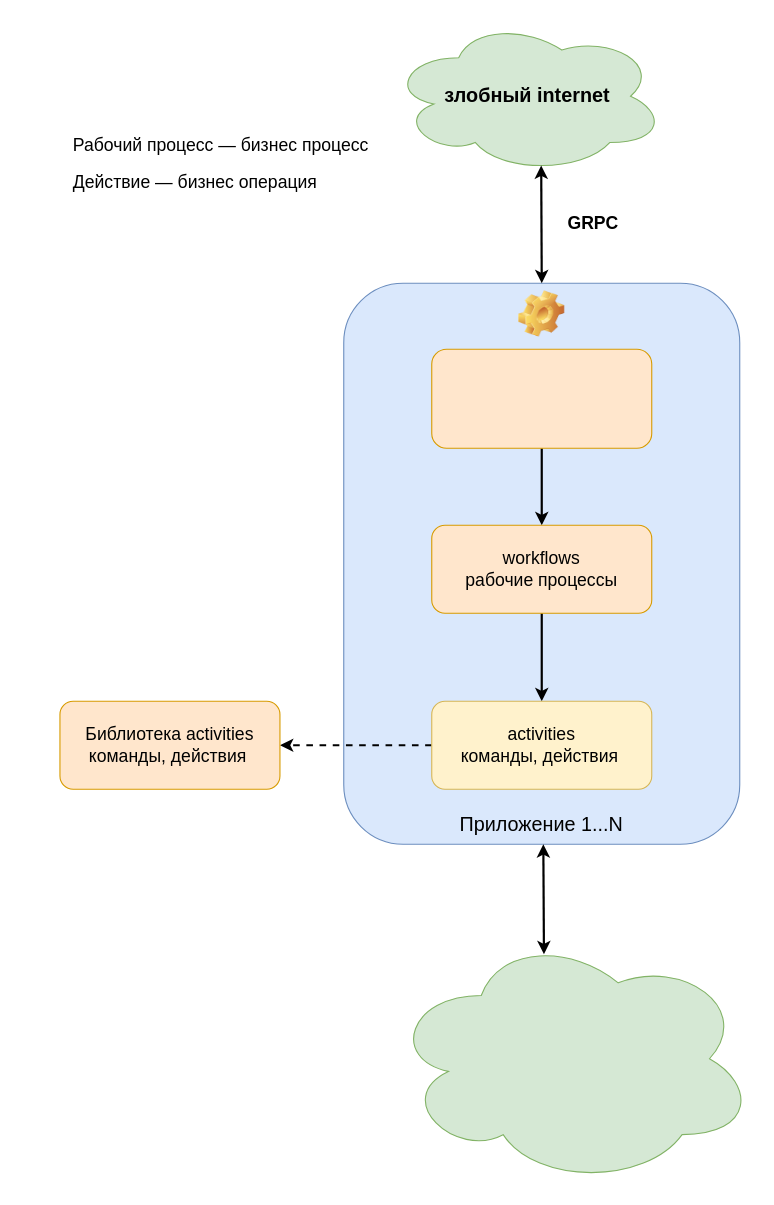
Image size: 774x1205. Some labels were removed from this diagram. Here are the shapes that lost their labels. From the top down, the centre of each, then its label:
point (541, 398): grpc server точка входа
point (572, 1058): TEMPORAL POSTGRES S3 RABBIT ...
